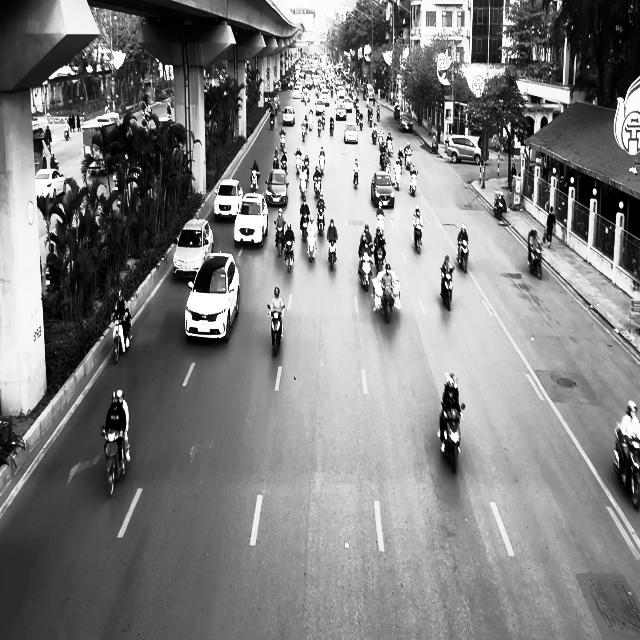car: (185, 251, 240, 343), (172, 218, 214, 277), (234, 192, 269, 248), (214, 178, 243, 220), (447, 134, 484, 164), (36, 168, 68, 201), (371, 170, 395, 208), (265, 169, 289, 206), (344, 122, 358, 143), (399, 112, 413, 132), (282, 106, 296, 125)
motorbike: (613, 427, 640, 509), (438, 402, 466, 473), (101, 425, 127, 497), (112, 311, 132, 363), (268, 304, 285, 356), (440, 266, 455, 310), (358, 251, 373, 292), (528, 242, 543, 279), (382, 285, 396, 323), (457, 238, 469, 273), (275, 221, 286, 256), (284, 238, 295, 272), (327, 239, 338, 270), (494, 192, 506, 220), (412, 225, 423, 254), (306, 231, 316, 262), (316, 204, 326, 233), (250, 168, 261, 192), (300, 214, 309, 241), (409, 170, 418, 196), (393, 168, 402, 191), (353, 169, 359, 188)
